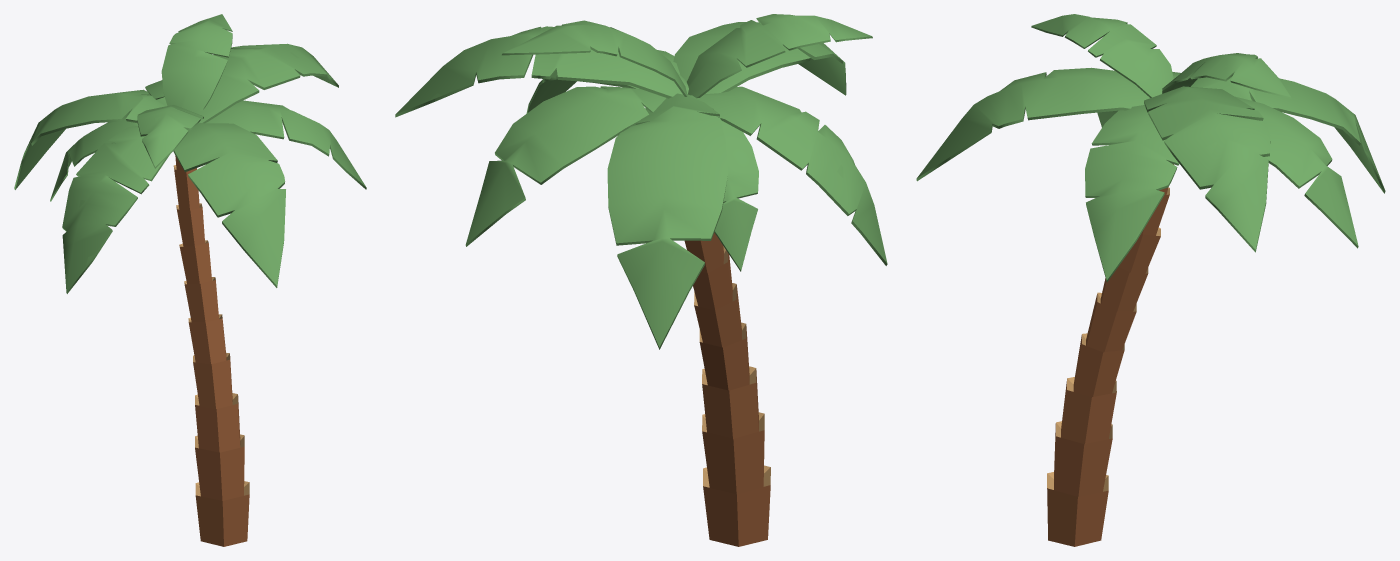
Rendered from tree_coconut.fbx.
3 views of the same model, side by side, from view 1: azimuth 30°, elevation 25°; view 2: azimuth 150°, elevation 25°; view 3: azimuth 270°, elevation 25° (orthographic). The views are drawn at different scales.
Parts seen in each view (by area): view 1: pCube11; view 2: pCube11; view 3: pCube11.
Part boxes in pixels (x1,y1,x2,y2): pCube11: [14, 14, 366, 546]; pCube11: [395, 14, 887, 546]; pCube11: [916, 14, 1385, 546].
Size of the model in its own units: 25.48 by 32.57 by 27.34.
